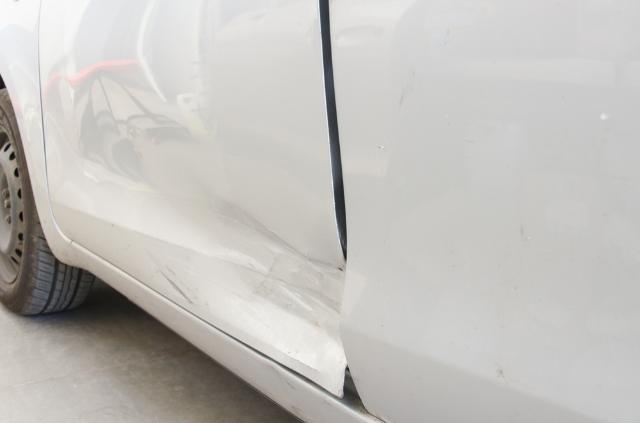dent: (52, 62, 343, 395)
